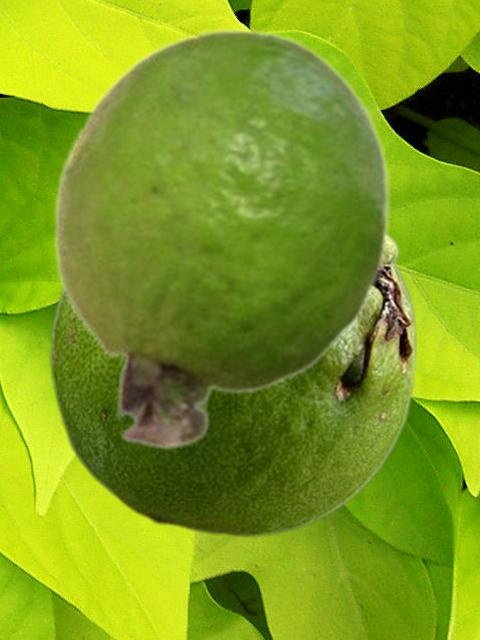guava: (53, 26, 391, 450), (49, 232, 416, 537)
